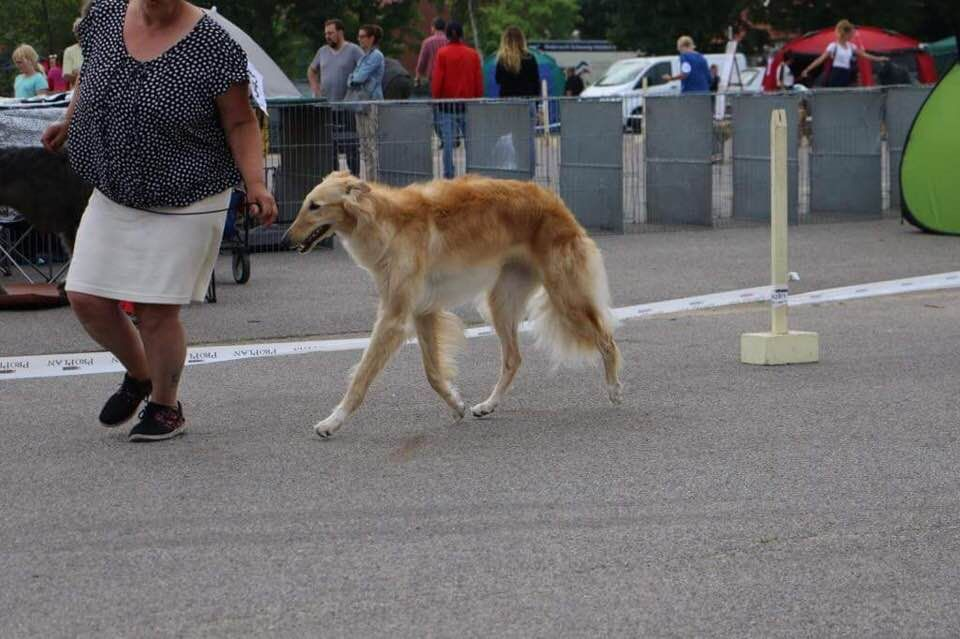borzoi: (254, 171, 659, 447)
